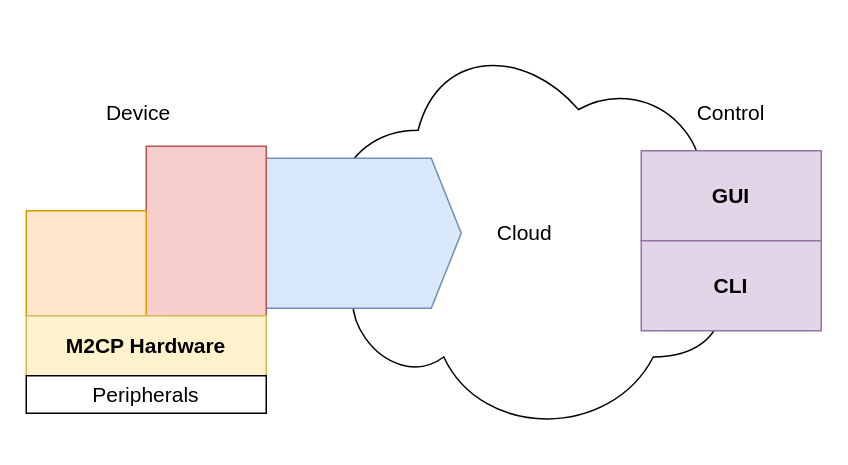
The diagram is 848 pixels wide and 465 high, and some of its shapes have lost their labels. The centre of each missing label's shape, as x and y in pixels:
M2CP Messaging: point (348, 232)
M2CP OS: point (205, 230)
RIOT OS: point (85, 262)
